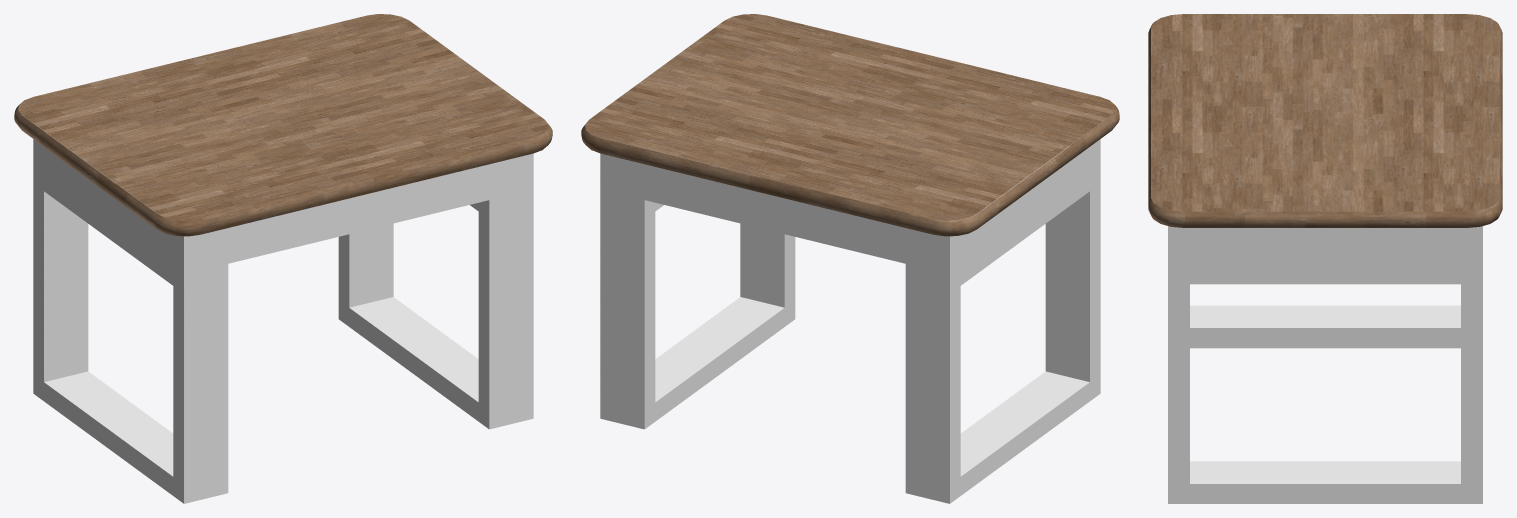
Rendered from Table.fbx.
The picture shows the model from 3 angles, left to right: view 1: azimuth 30°, elevation 25°; view 2: azimuth 150°, elevation 25°; view 3: azimuth 270°, elevation 25°; orthographic projection. The views are drawn at different scales.
Visible parts, largest first — view 1: Cube; view 2: Cube; view 3: Cube.
Boxes of the visible parts, left/top/right/bottom form: Cube: left=14, top=14, right=552, bottom=503; Cube: left=581, top=14, right=1119, bottom=503; Cube: left=1148, top=14, right=1502, bottom=503.
Bounding box in the file's own units: 301 × 211 × 225.
1 material, 1 textured.
